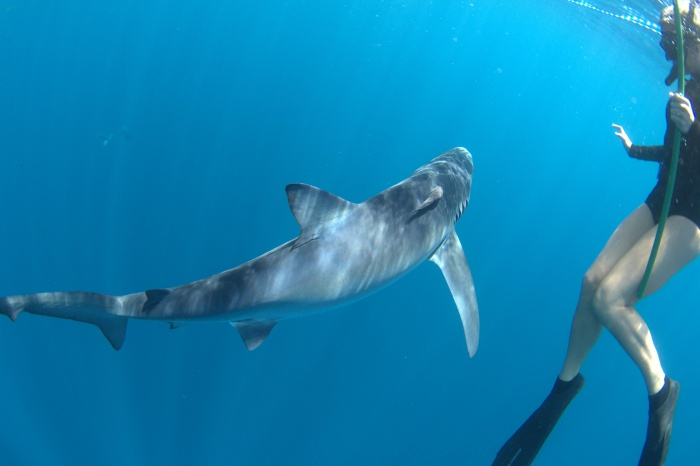Azul: (1, 120, 497, 378)
